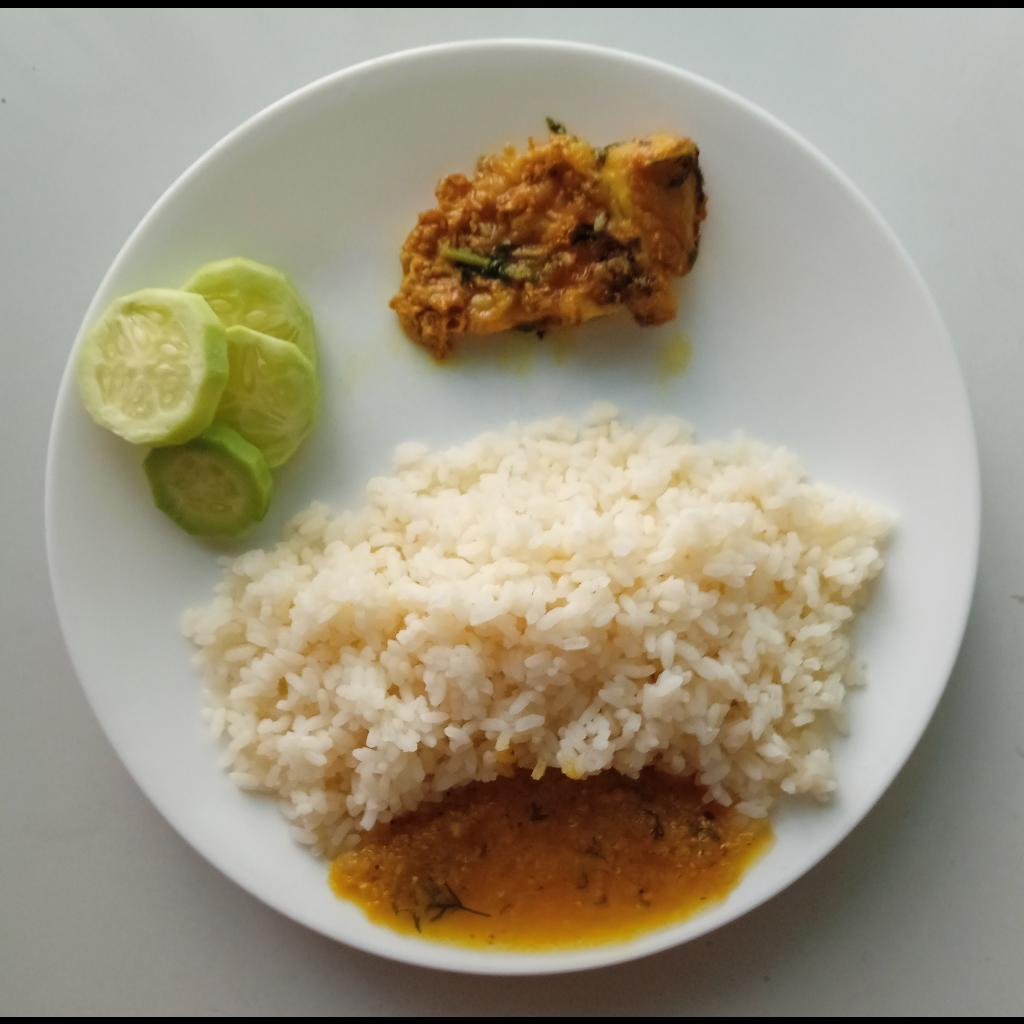cucumber: (79, 254, 318, 538)
daal: (333, 772, 777, 950)
fish: (389, 114, 711, 366)
rice: (184, 398, 897, 859)
